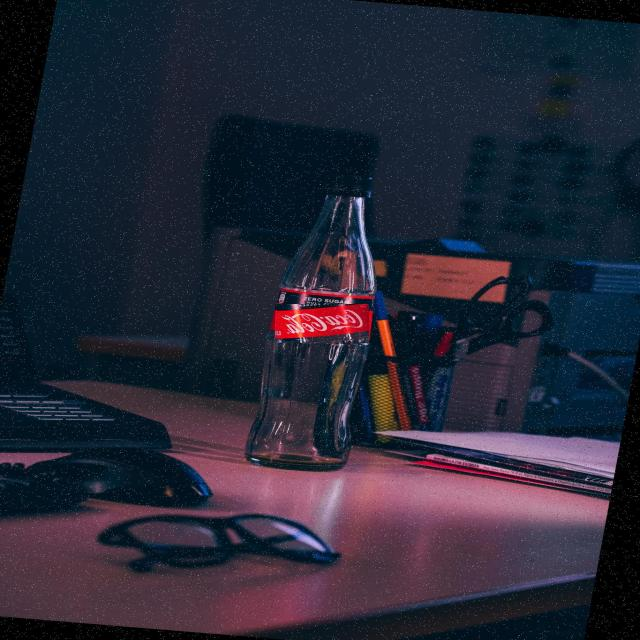coca-cola: (275, 304, 369, 343)
